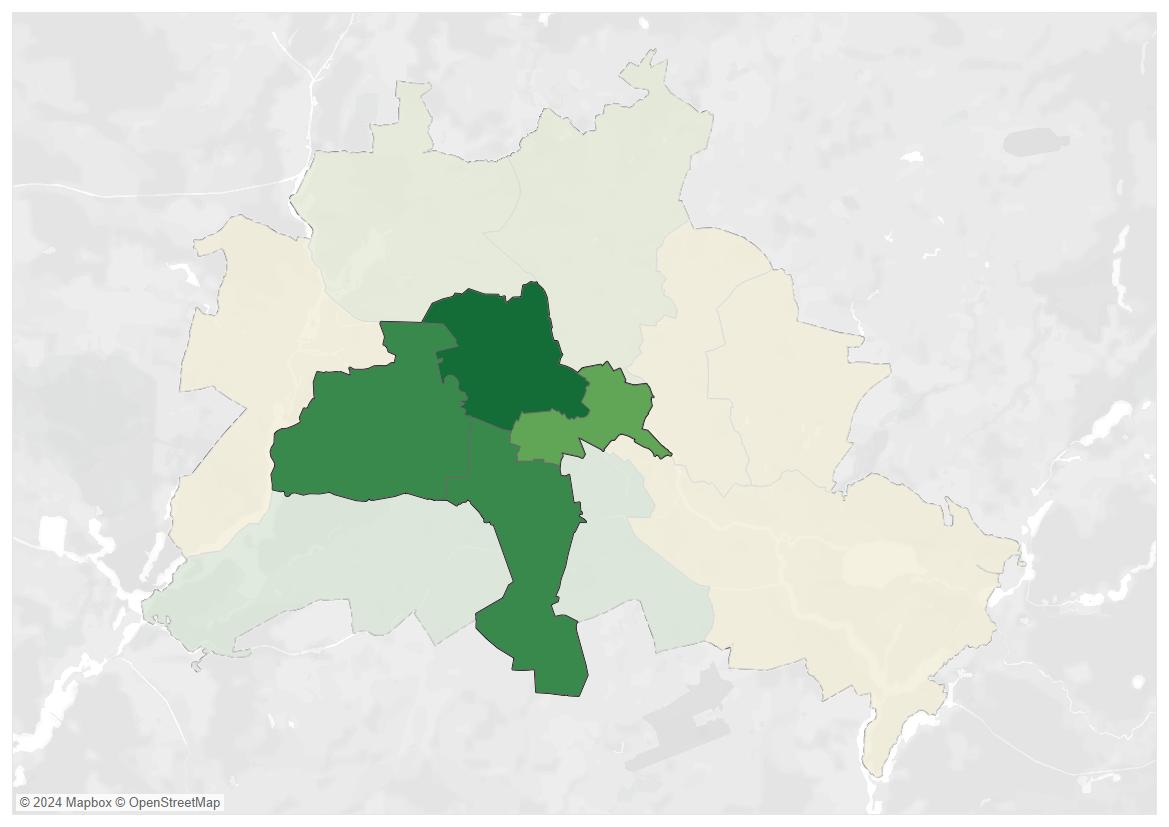

The page's visual inventory and layout, read from the dashboard file:
{"tool":"tableau","page":{"name":"DA5","canvas":[1169,827],"ordinal":5},"visuals":[{"type":"worksheet","title":"Restaurants per km^2","mark":"Automatic","rows":["Gemeinde_n"],"cols":["Calculation_2923680605737775104"],"box":[8,8,1153,811]}]}

Visuals, with their boxes in screenshot pixels (x1, y1, x2, y2), scaled from the page's 1169x827 canvas onto the 1169x827 screenshot:
"Restaurants per km^2" worksheet: <region>8, 8, 1161, 819</region>
